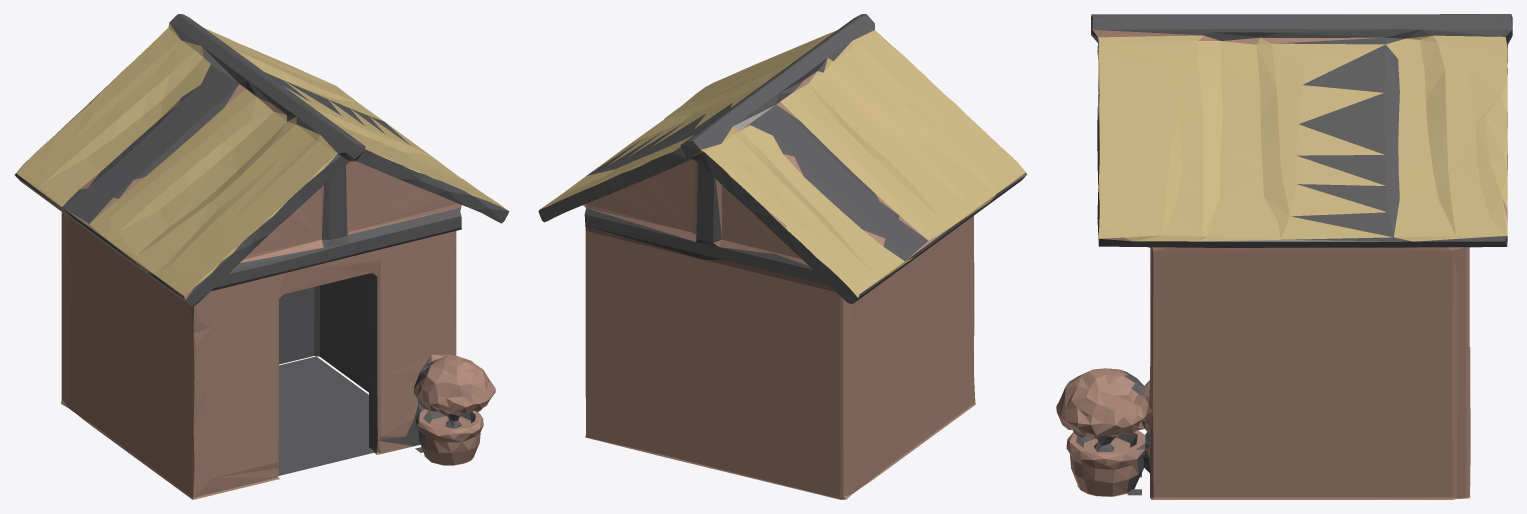
The picture shows the model from 3 angles, left to right: view 1: azimuth 30°, elevation 25°; view 2: azimuth 150°, elevation 25°; view 3: azimuth 270°, elevation 25°; orthographic projection. The views are drawn at different scales.
Visible parts, largest first — view 1: geometry_0; view 2: geometry_0; view 3: geometry_0.
Part boxes in pixels (x1,y1,x2,y2): geometry_0: (15, 14, 509, 499); geometry_0: (538, 14, 1027, 499); geometry_0: (1056, 14, 1512, 499).
Bounding box in the file's own units: 0.9341 × 0.9447 × 0.9512.
